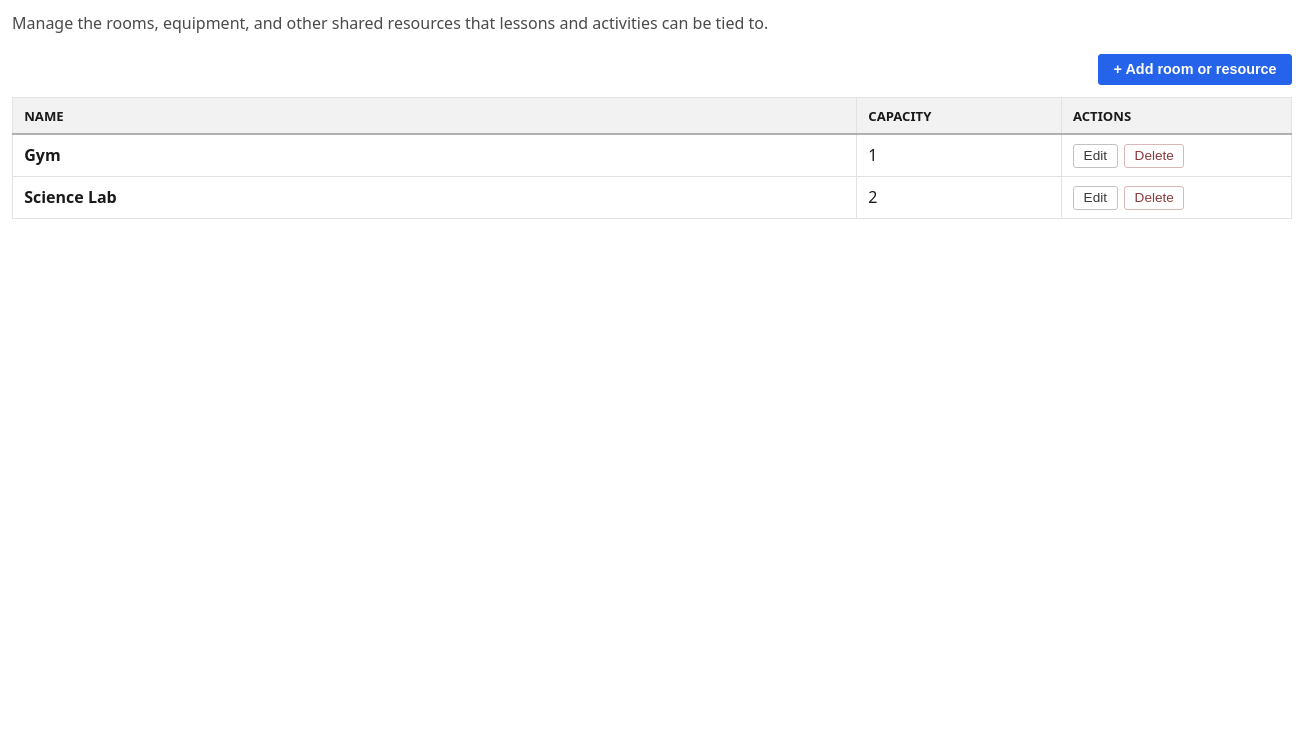
Test: RoomsResourcesPanel › sends the exact create request body (with default capacity), then collapses and refetches on success
Expected: the column heading "Gym" is shown, 12,134 -> 857,177
Click the button "+ Add room or resource" at (1195, 69), box 1098,54 -> 1292,85
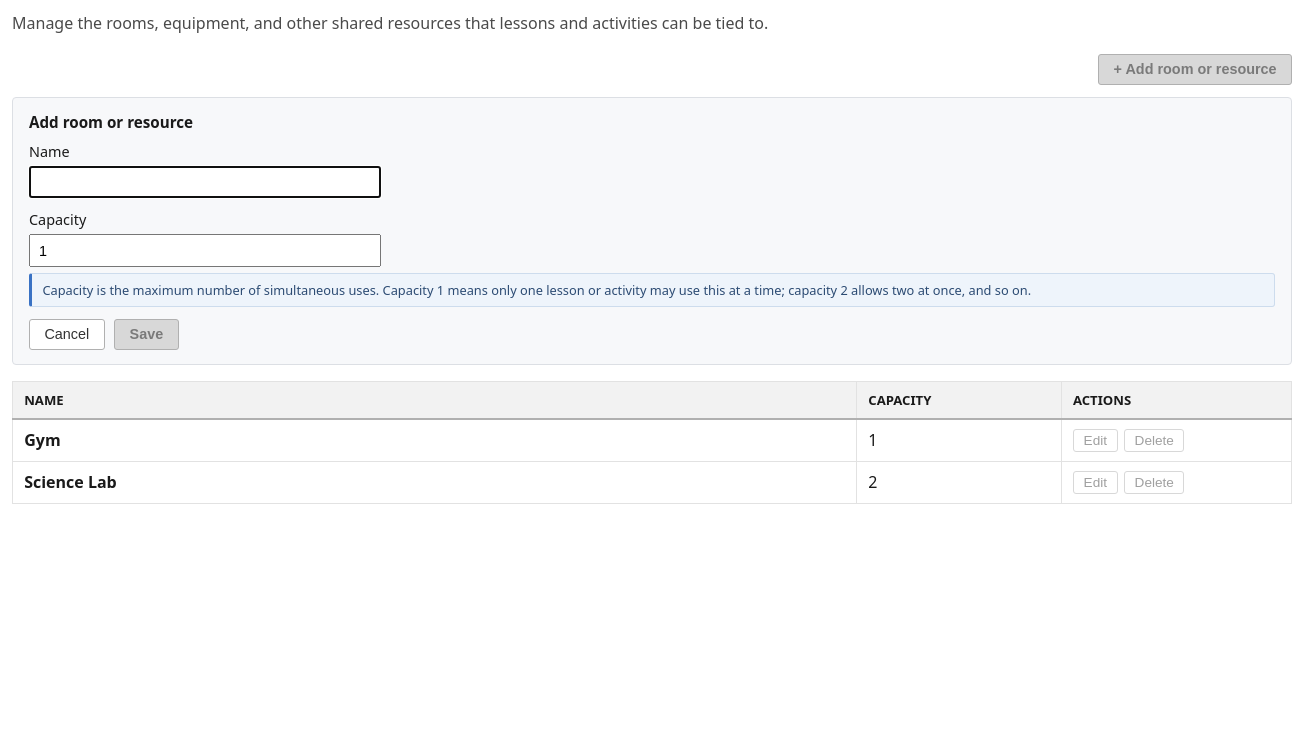
Type "Music Room" into the field labelled "Name" at (205, 182), box 29,166 -> 381,198
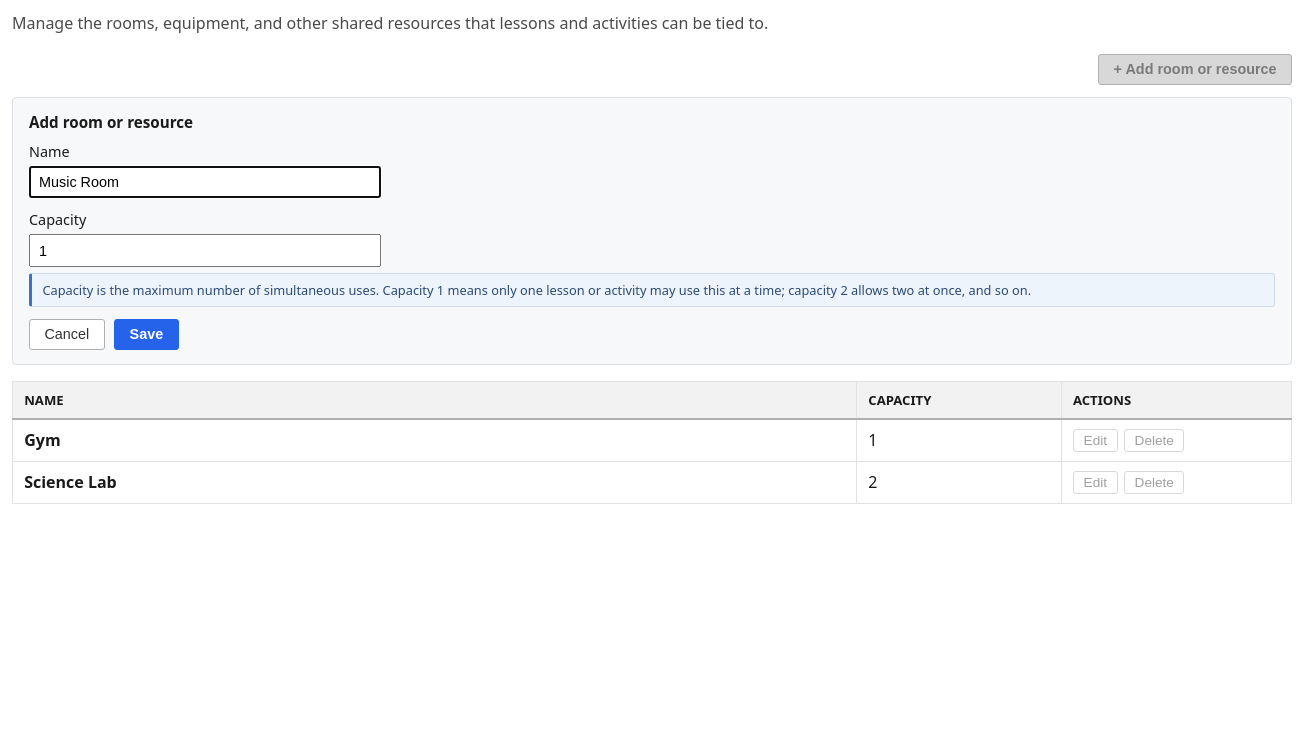
Click the button "Save" at (146, 334), box 114,319 -> 179,350
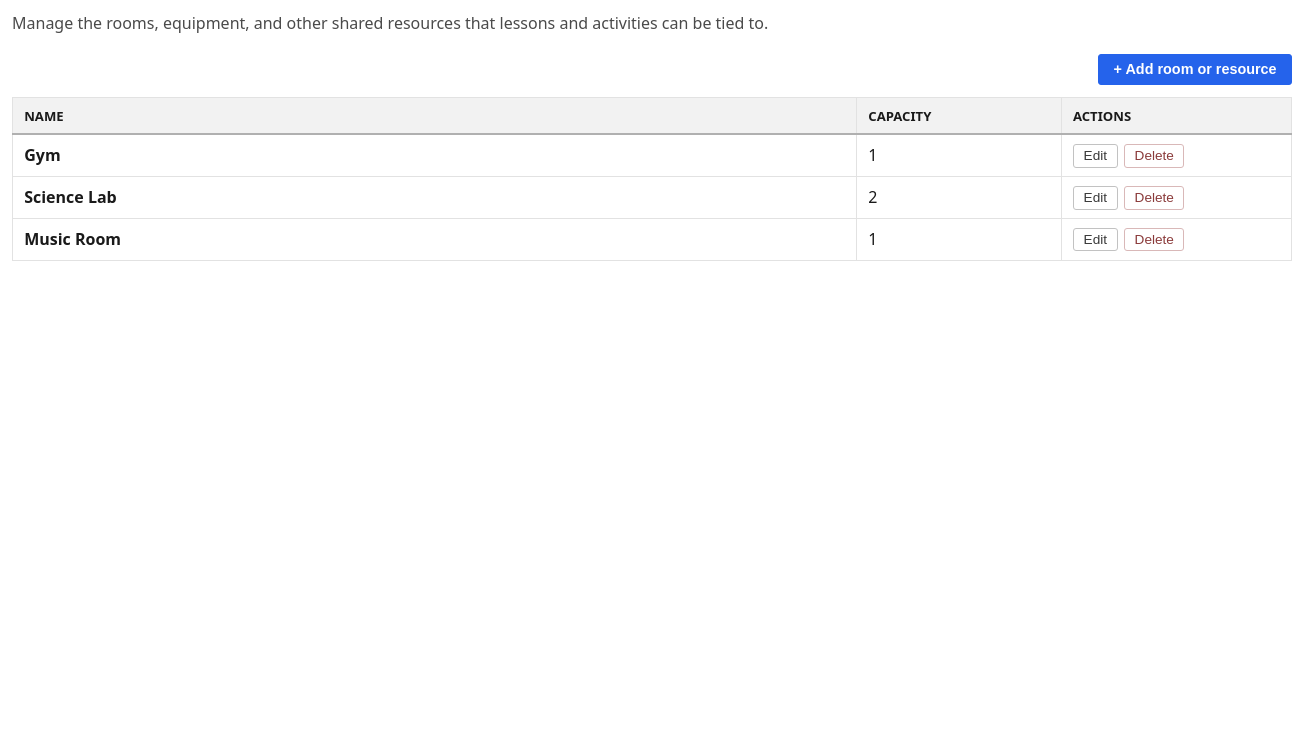
Expected: the column heading "Music Room" is shown, 12,219 -> 857,261
